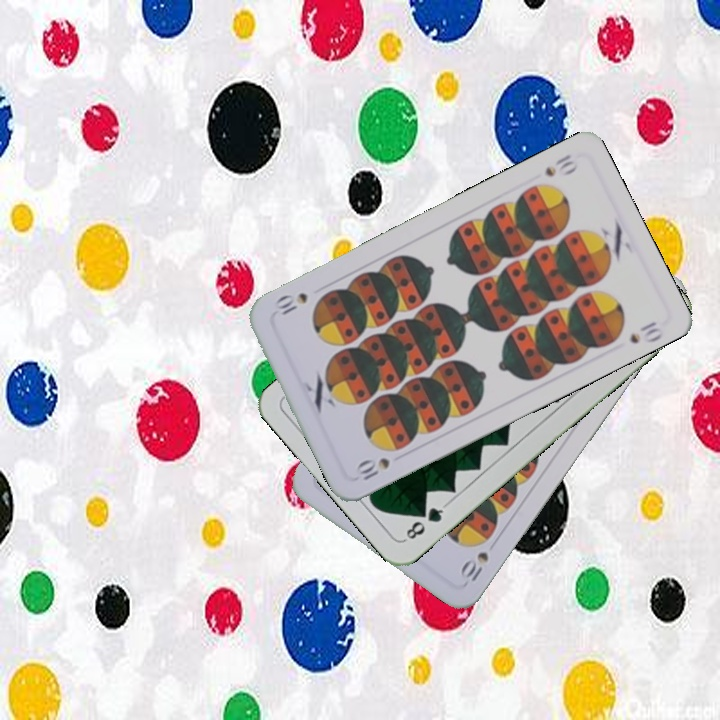G8: (400, 500, 449, 543)
S10: (456, 547, 492, 584), (351, 453, 393, 484), (540, 150, 581, 180)
